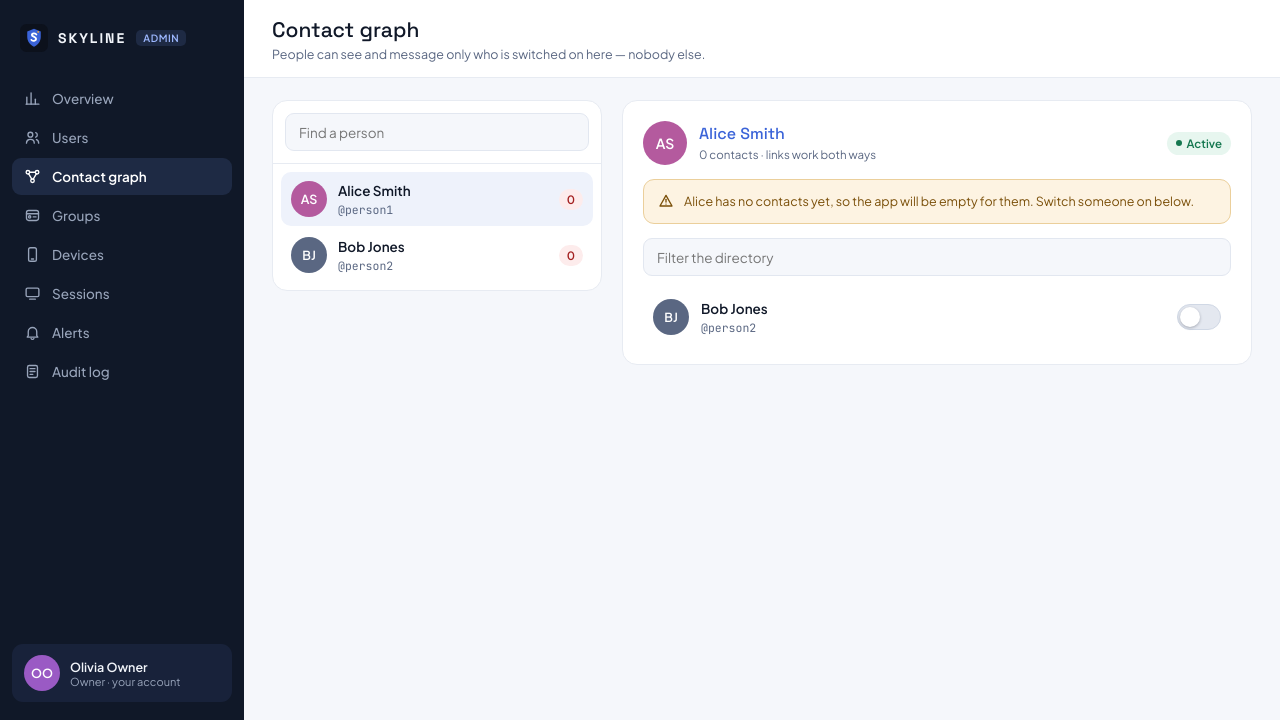
Test: contact graph › a switch links two people and the counts follow
The width and height of the screenshot is (1280, 720).
Expected: the text "has no contacts yet" is shown, [713,193,1194,209]
Click the switch named "Alice can talk to Bob Jones": (1199, 317) [1177,304,1221,330]
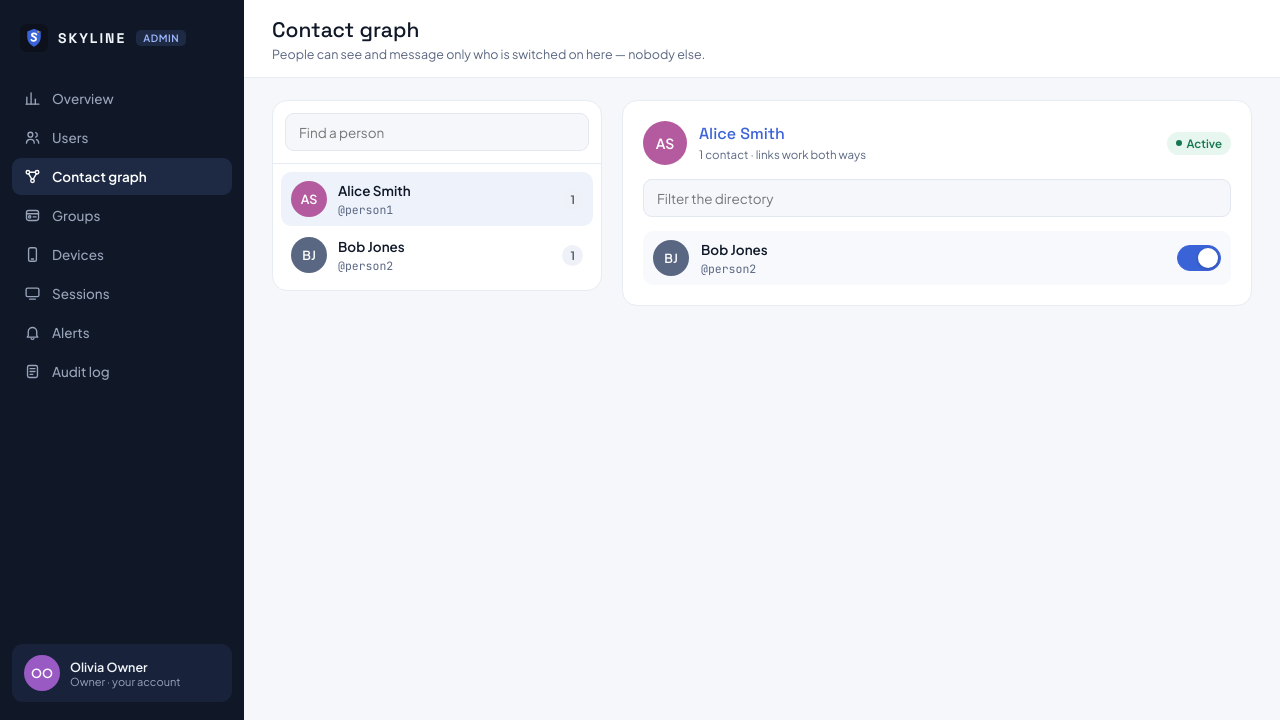
Expected: the number of elements named "1 contacts" is 2, [562,188,583,210]; [562,244,583,266]
Expected: the text "has no contacts yet" is gone
